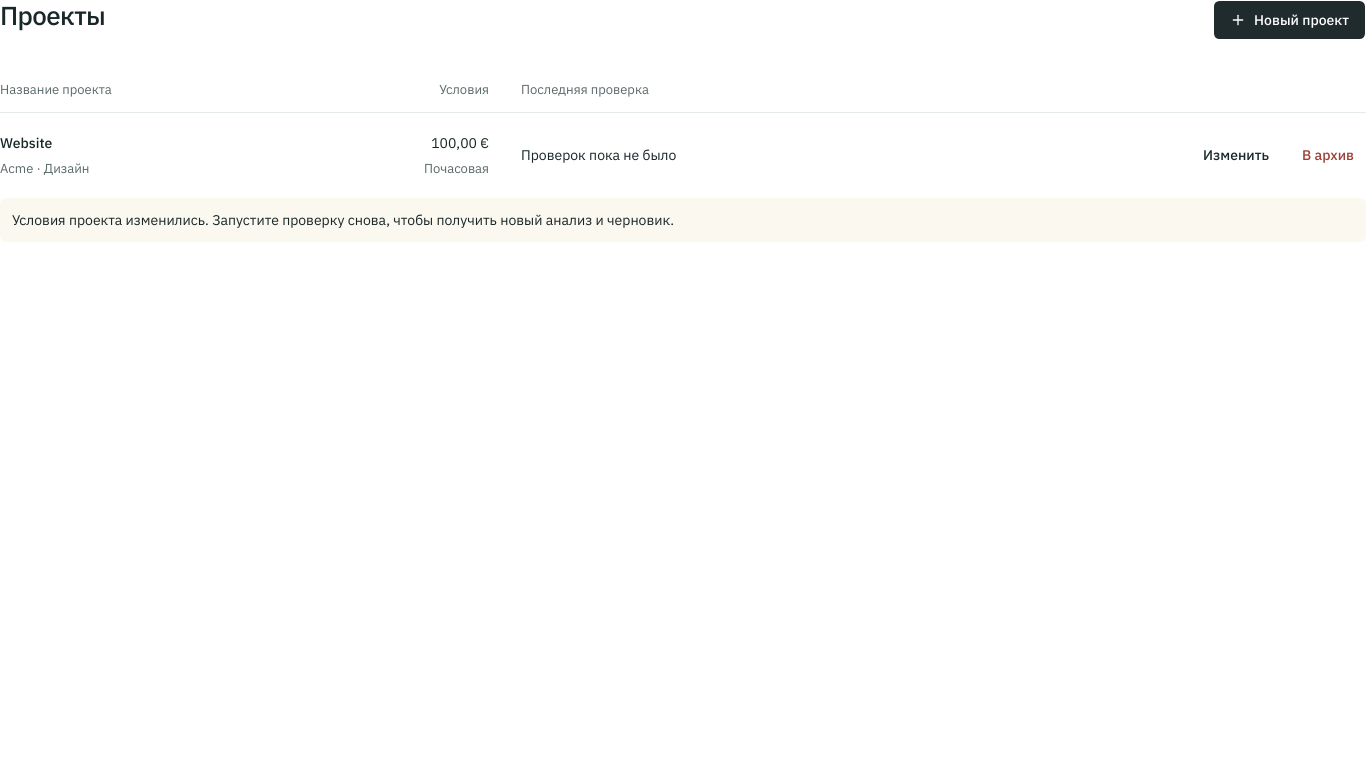
Test: uses real ru strings in list confirmation and terms-changed feedback
The width and height of the screenshot is (1366, 768).
Later steps or results of the test are not shown.
Expected: the text "Условия проекта изменились. Запустите проверку снова, чтобы получить новый анализ и черновик." is shown, [12,211,674,229]
Click the button "В архив" at [1328, 155], box [1290,137,1365,173]
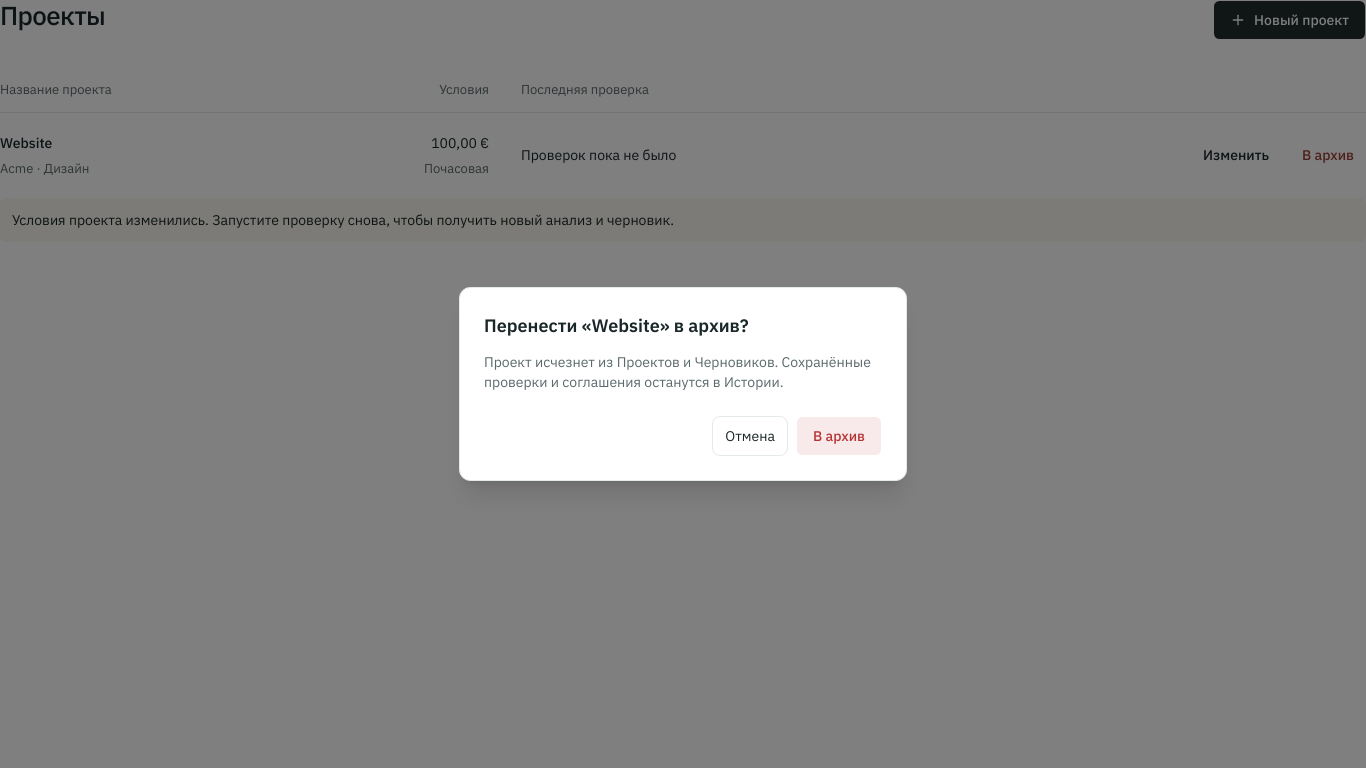
Now the text "Проект исчезнет из Проектов и Черновиков. Сохранённые проверки и соглашения останутся в Истории." is shown, box [484,353,871,391]
Now the dialog shows "Website", box [484,314,749,337]
Click the button "Отмена" at [750, 436], box [712,416,788,456]
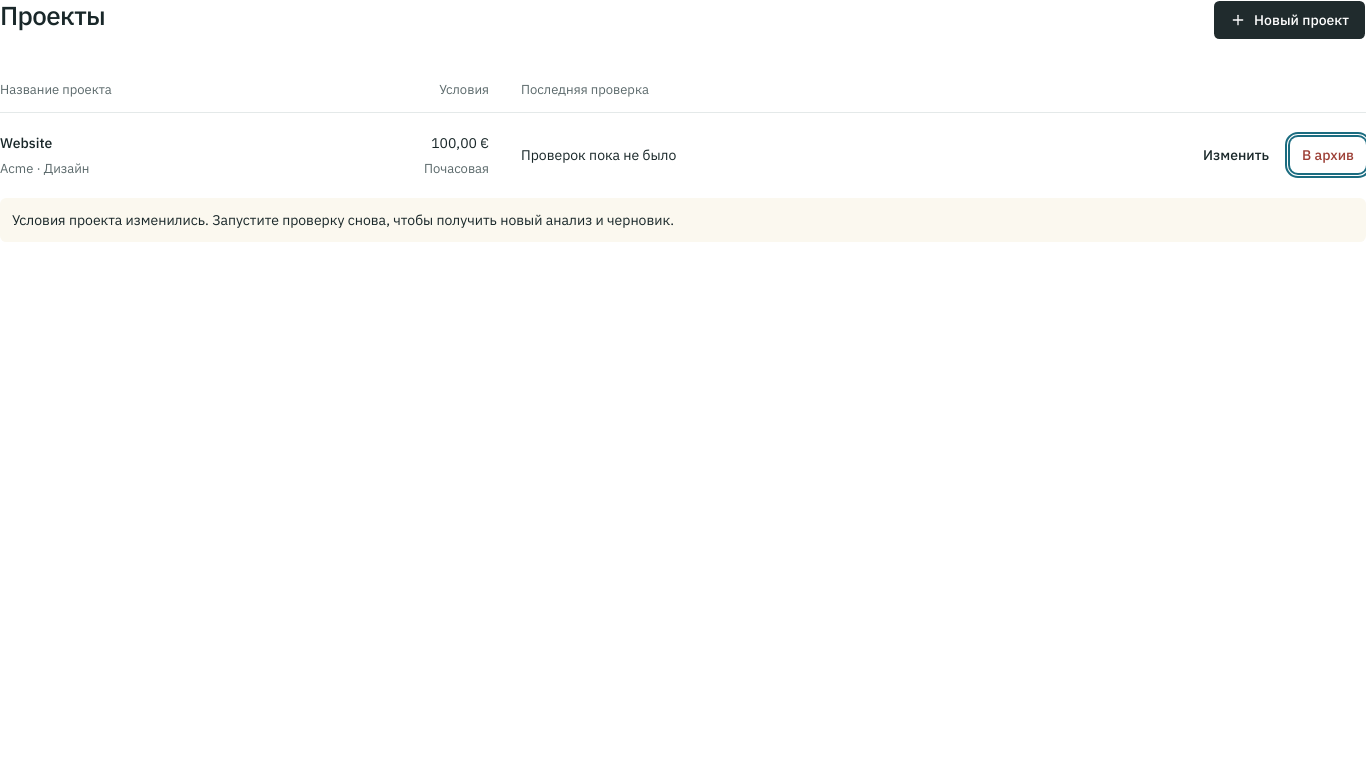
Now the dialog is gone
